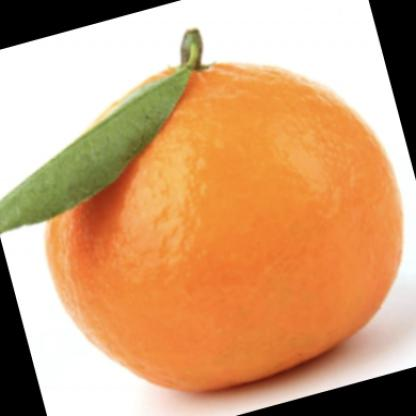orange: (37, 62, 403, 392)
